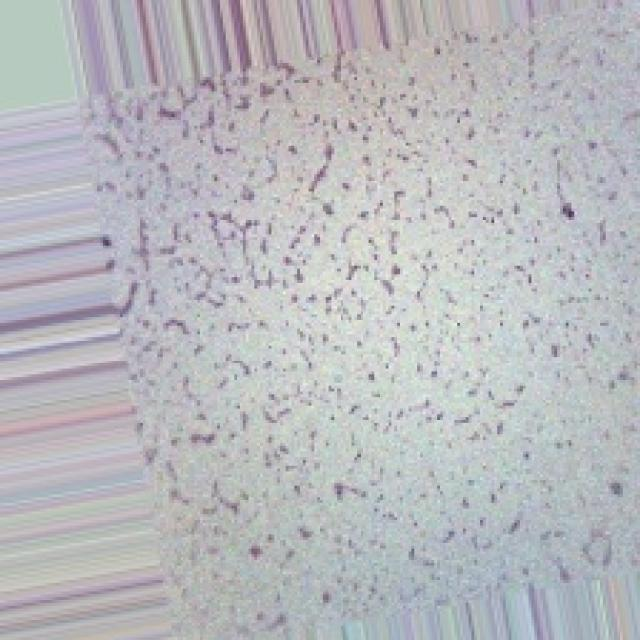Rod_bacteria: (49, 0, 637, 637)
